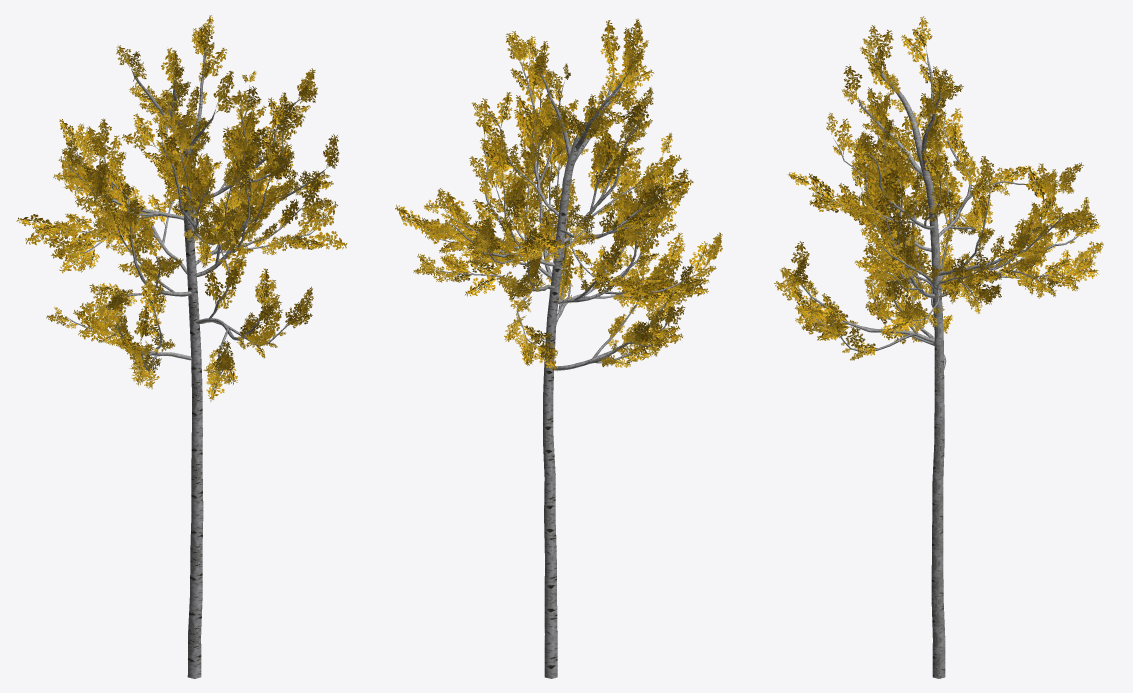
File: aspen_a.glb
3 renders of one model, left to right at view 1: azimuth 30°, elevation 25°; view 2: azimuth 150°, elevation 25°; view 3: azimuth 270°, elevation 25°, orthographic. The views are drawn at different scales.
Visible parts, largest first — view 1: Tree; view 2: Tree; view 3: Tree.
Boxes of the visible parts, x1,y1,x2,y2 form: Tree: [16, 15, 347, 678]; Tree: [395, 18, 722, 678]; Tree: [774, 16, 1103, 678].
Size of the model in its own units: 31.47 by 67.89 by 34.64.
Materials: 2 (2 with a texture image).
